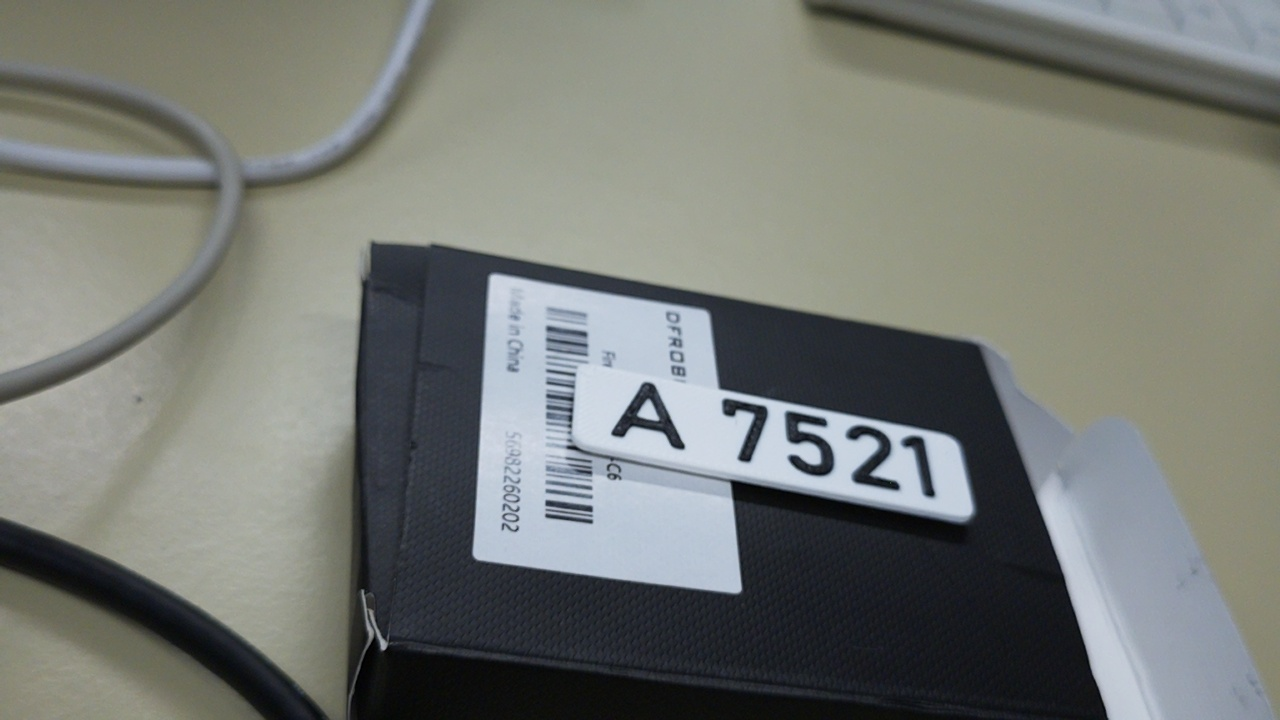license_plate: (567, 359, 981, 530)
